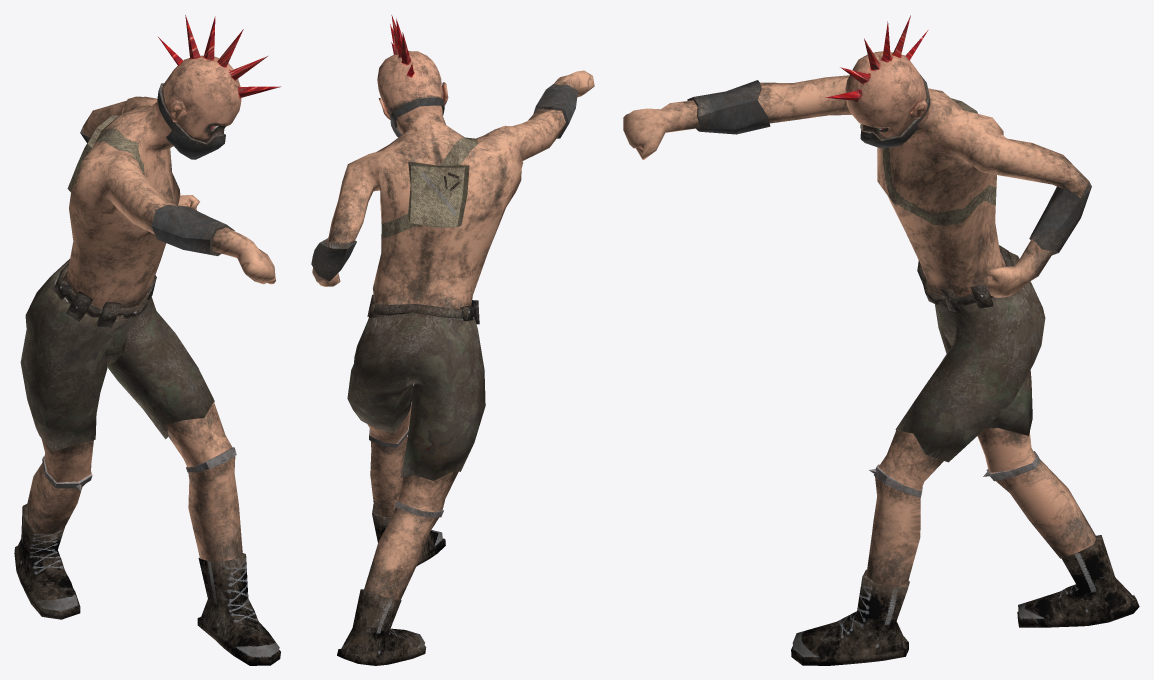
Rendered from Anim_ataque_d2_npc2.0022.obj.
The picture shows the model from 3 angles, left to right: view 1: azimuth 30°, elevation 25°; view 2: azimuth 150°, elevation 25°; view 3: azimuth 270°, elevation 25°; orthographic projection. The views are drawn at different scales.
Parts seen in each view (by area): view 1: polySurface1; view 2: polySurface1; view 3: polySurface1.
Boxes of the visible parts, x1,y1,x2,y2 form: polySurface1: (14, 15, 280, 665); polySurface1: (311, 15, 594, 665); polySurface1: (623, 15, 1139, 665).
Bounding box in the file's own units: 2.69 × 9.34 × 6.79.
2 materials, 2 textured.
